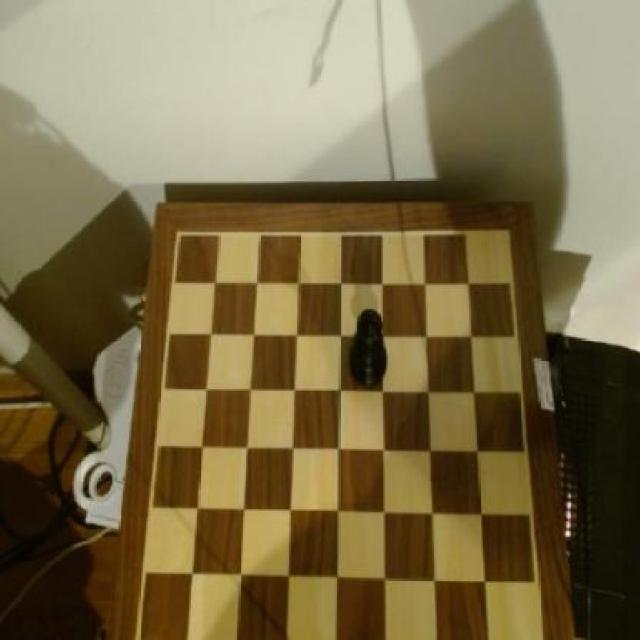black-bishop: (348, 306, 387, 385)
